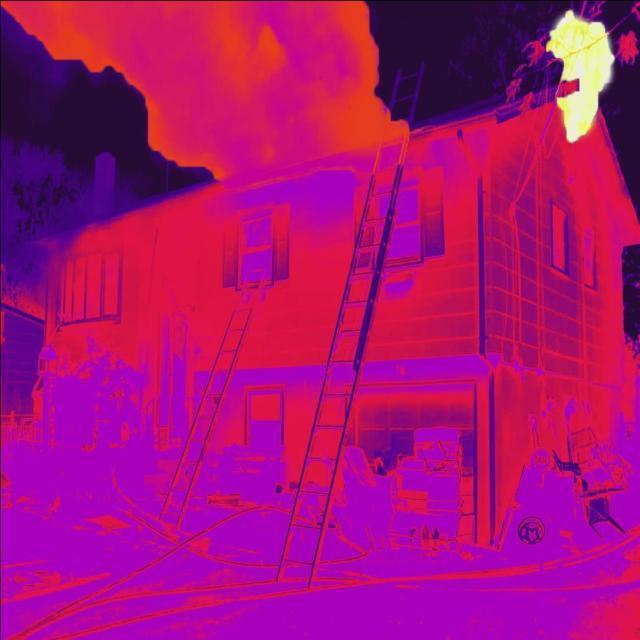fire: (543, 2, 625, 153)
